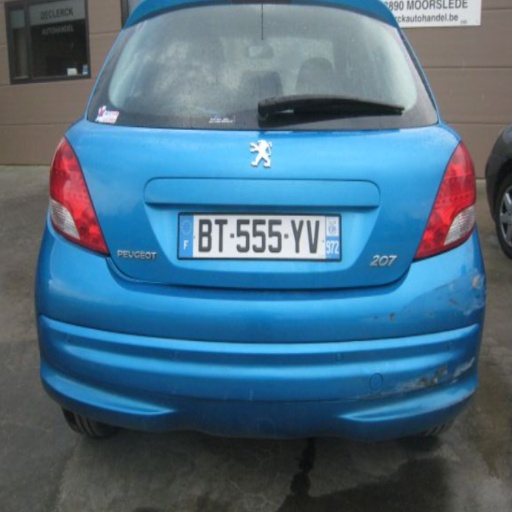dent: (447, 265, 485, 316)
scratch: (357, 367, 447, 397), (441, 388, 475, 407), (451, 357, 474, 376), (450, 377, 458, 385)
